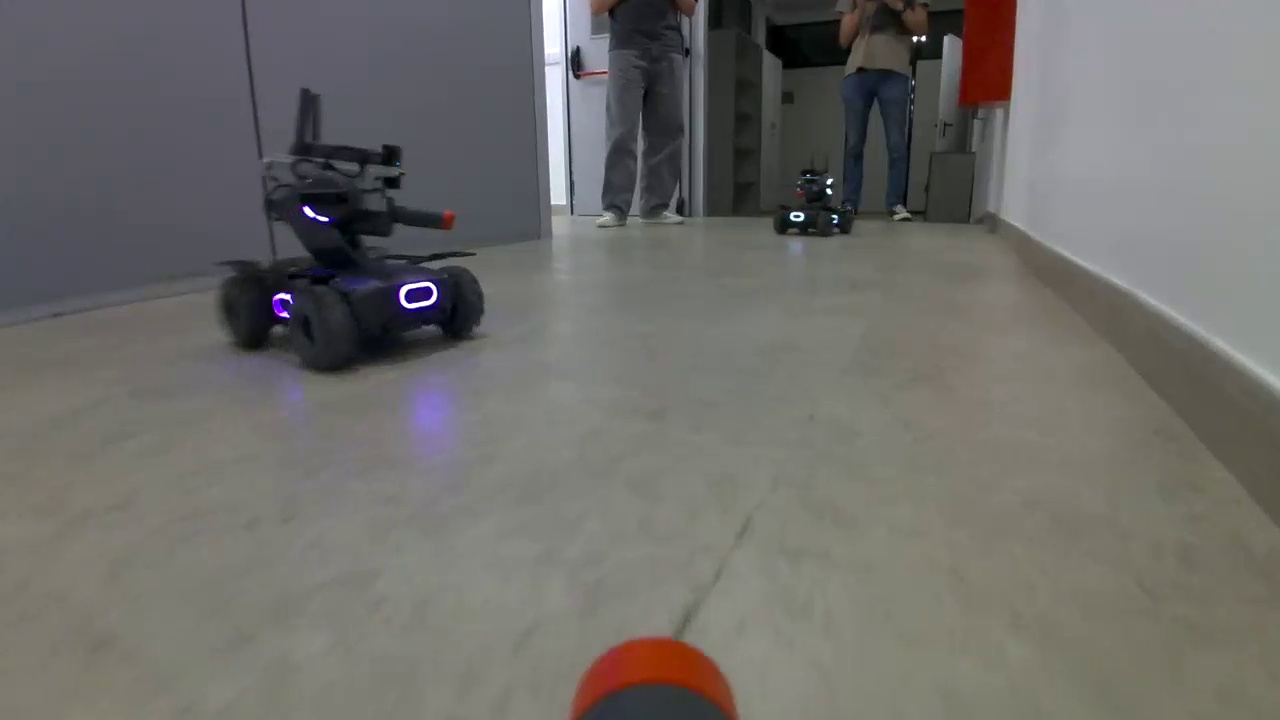robot: (221, 142, 489, 374), (772, 169, 856, 238)
